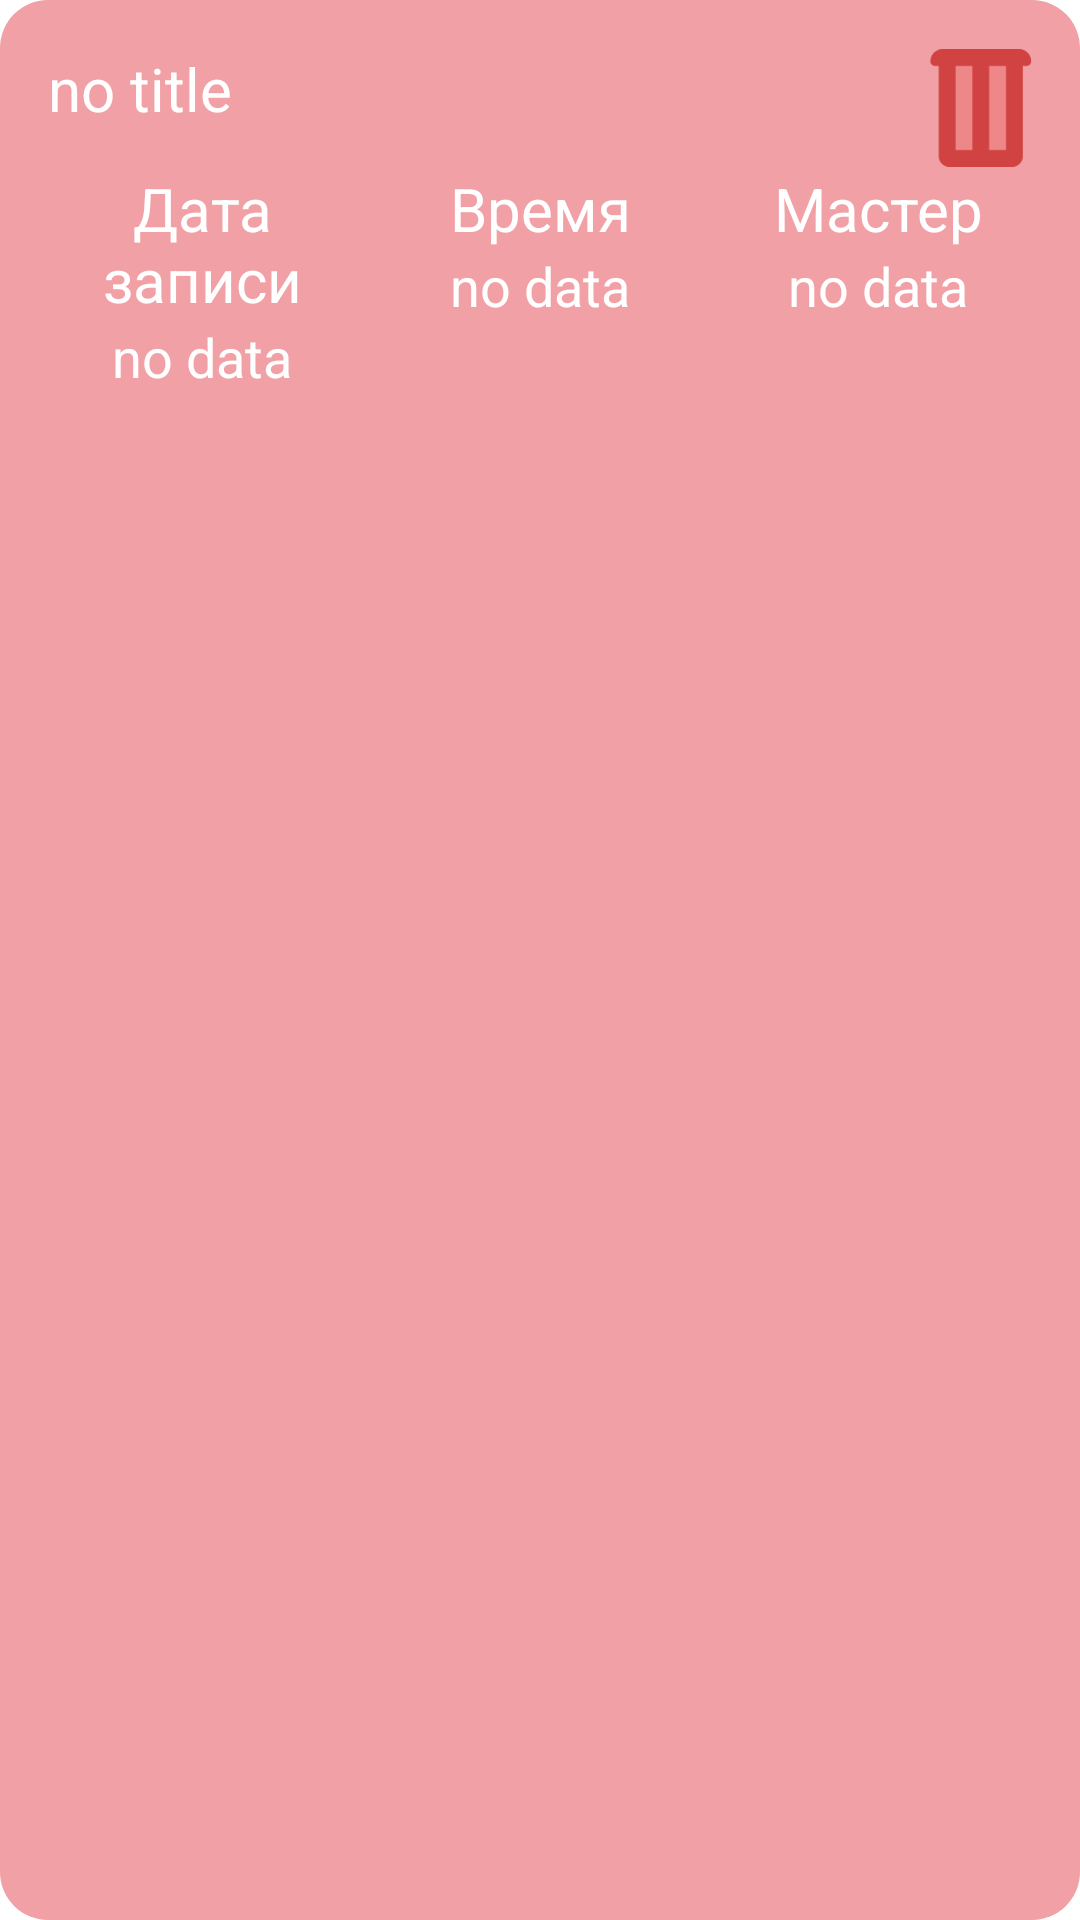

Icons on this 1080×1920 Android screen, each with the point to tap as point (x, y):
delete: point (980, 108)
